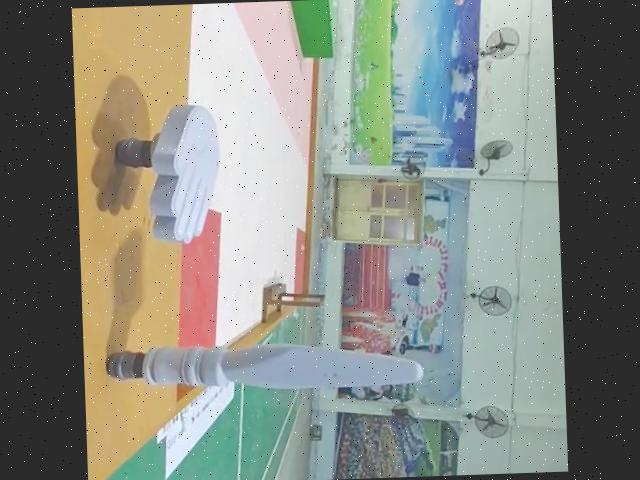Hand: (114, 98, 227, 249)
Sph: (105, 331, 427, 400)
